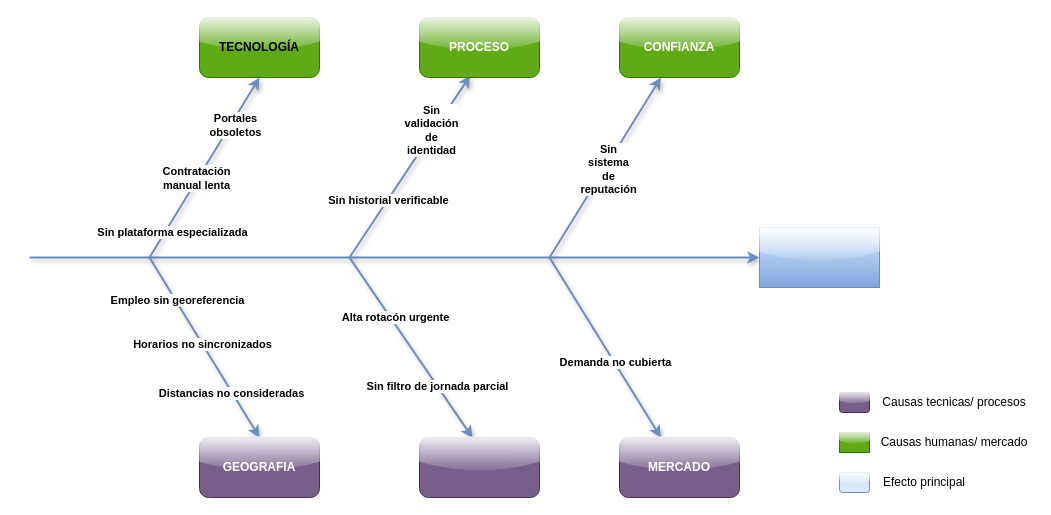
This 1051x515 diagram has some shape labels left out. The shapes that lost their labels are listed below. From the top down, each one's centre as x and y in pixels, then its label:
At (819,257): "SIN CONEXIÓN laboral inmediata".
At (479,467): "DISPONIBILIDAD".
